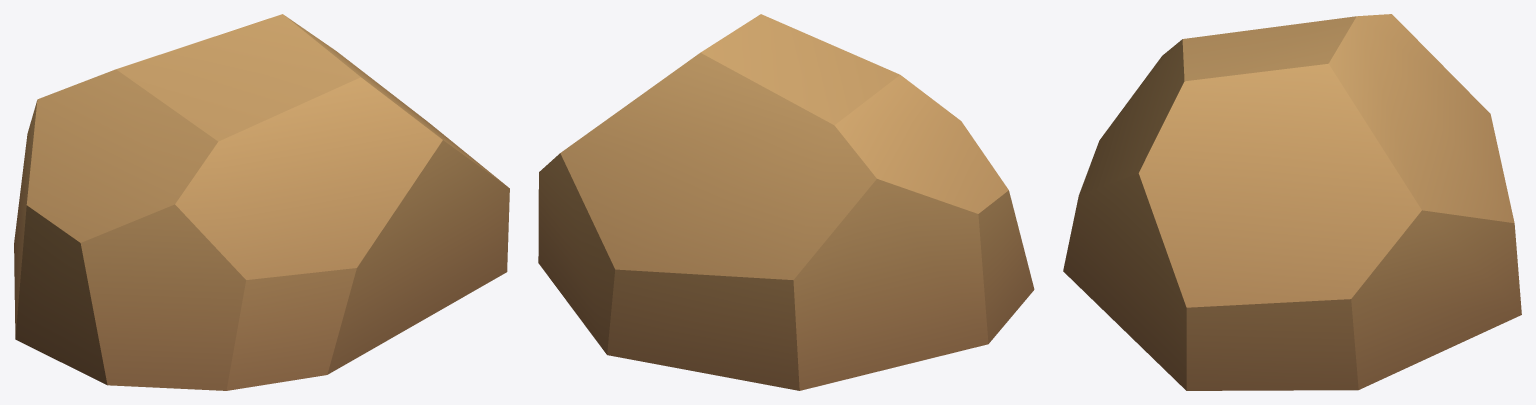
File: desert stone small 2.fbx
3 renders of one model, left to right at view 1: azimuth 30°, elevation 25°; view 2: azimuth 150°, elevation 25°; view 3: azimuth 270°, elevation 25°, orthographic. The views are drawn at different scales.
Parts seen in each view (by area): view 1: desert stone small 2; view 2: desert stone small 2; view 3: desert stone small 2.
Boxes of the visible parts, box(x1,y1,x2,y2) form: desert stone small 2: box(14, 14, 509, 390); desert stone small 2: box(538, 14, 1034, 390); desert stone small 2: box(1063, 14, 1521, 390).
Size of the model in its own units: 133 by 70.41 by 117.
